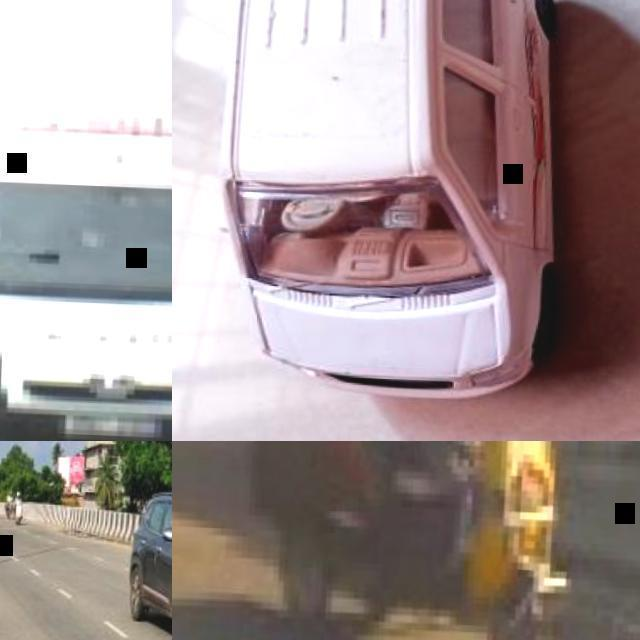car: (6, 0, 586, 439), (130, 490, 173, 639)
